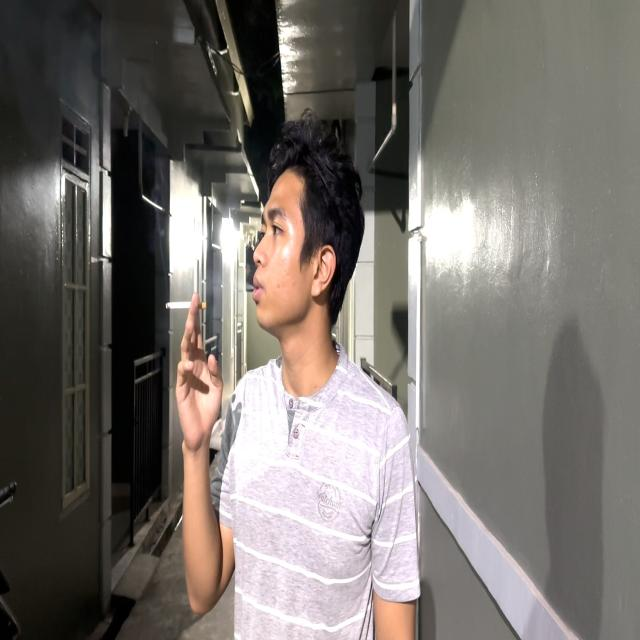cigarette: (159, 293, 216, 323)
smoking: (155, 99, 370, 633)
